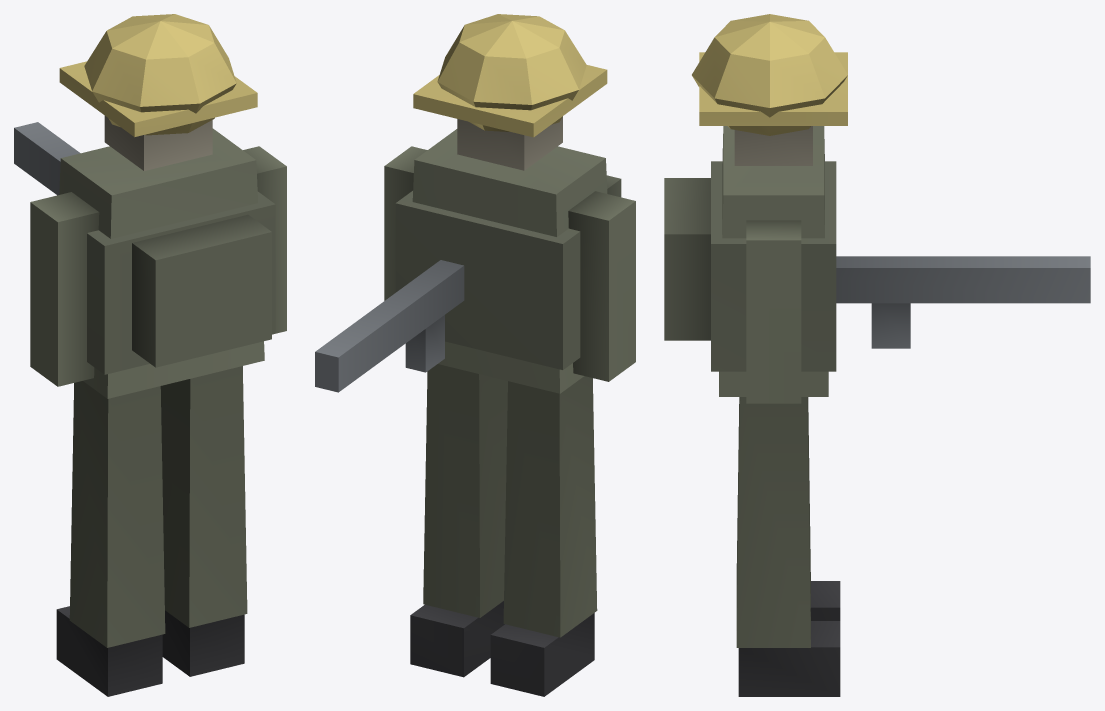
File: rifle_soldier.glb
3 views of the same model, side by side, from view 1: azimuth 30°, elevation 25°; view 2: azimuth 150°, elevation 25°; view 3: azimuth 270°, elevation 25° (orthographic). The views are drawn at different scales.
Parts seen in each view (by area): view 1: Torso, Leg_L, Leg_R, Head, Arm_L, Arm_R, Weapon; view 2: Torso, Leg_L, Leg_R, Head, Arm_L, Weapon, Arm_R; view 3: Torso, Leg_R, Head, Weapon, Arm_R, Leg_L.
Part boxes in pixels (x1=…): Torso: x1=59, y1=128, x2=275, y2=398; Leg_L: x1=56, y1=381, x2=165, y2=696; Leg_R: x1=160, y1=366, x2=247, y2=676; Head: x1=59, y1=14, x2=257, y2=170; Arm_L: x1=30, y1=192, x2=99, y2=386; Arm_R: x1=243, y1=146, x2=286, y2=334; Weapon: x1=14, y1=122, x2=80, y2=195; Torso: x1=395, y1=129, x2=621, y2=393; Leg_L: x1=490, y1=376, x2=597, y2=696; Leg_R: x1=410, y1=364, x2=507, y2=677; Head: x1=413, y1=14, x2=607, y2=170; Arm_L: x1=568, y1=191, x2=635, y2=381; Weapon: x1=315, y1=260, x2=464, y2=392; Arm_R: x1=384, y1=146, x2=427, y2=300; Torso: x1=664, y1=126, x2=836, y2=396; Leg_R: x1=736, y1=397, x2=840, y2=696; Head: x1=692, y1=14, x2=847, y2=165; Weapon: x1=836, y1=256, x2=1090, y2=348; Arm_R: x1=746, y1=220, x2=801, y2=403; Leg_L: x1=736, y1=397, x2=840, y2=620.
Size of the model in its own units: 0.67 by 1.81 by 1.09.
